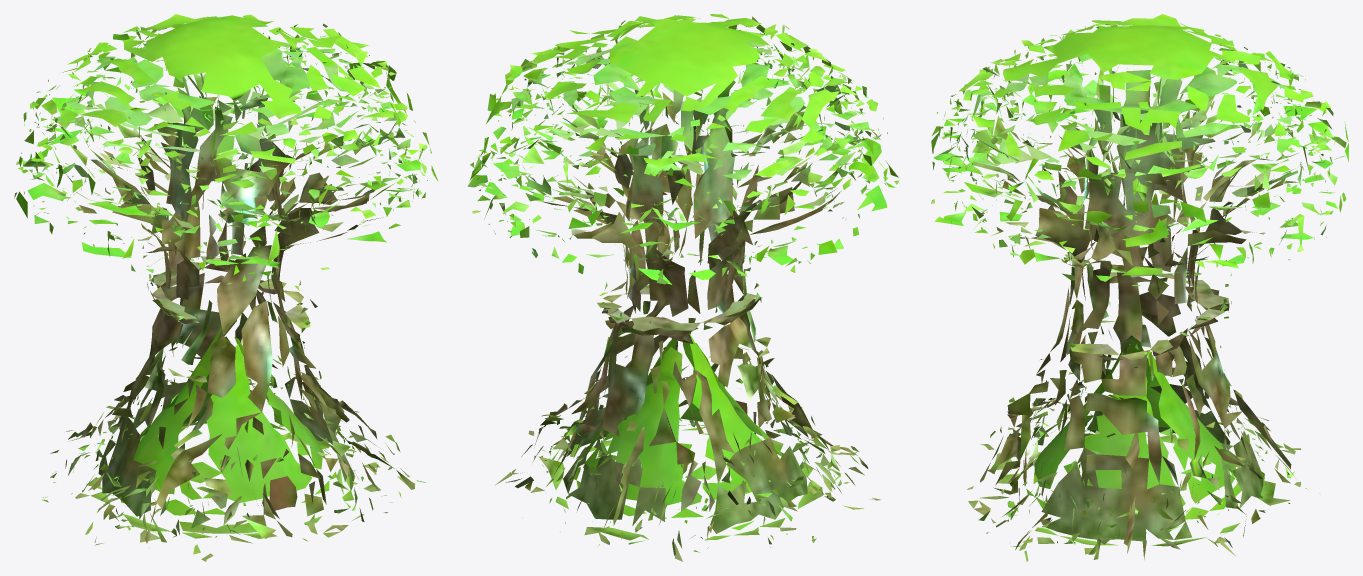
Rendered from arbre_loin.glb.
3 views of the same model, side by side, from view 1: azimuth 30°, elevation 25°; view 2: azimuth 150°, elevation 25°; view 3: azimuth 270°, elevation 25° (orthographic).
Parts seen in each view (by area): view 1: mesh; view 2: mesh; view 3: mesh.
Boxes of the visible parts, x1,y1,x2,y2 form: mesh: (14,14,438,561); mesh: (467,14,899,561); mesh: (931,14,1348,561).
Bounding box in the file's own units: 1.57 × 1.87 × 1.59.
Materials: 1 (1 with a texture image).
